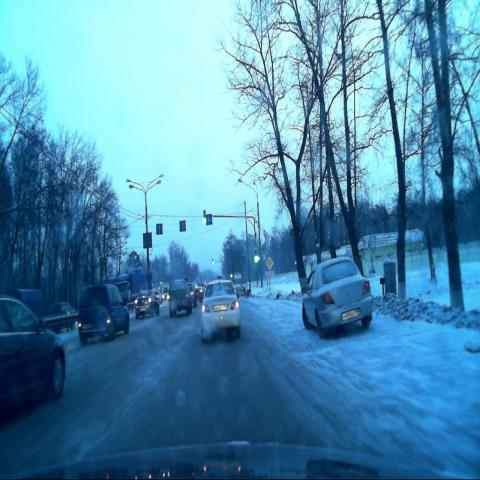2_1: (266, 256, 273, 270)
